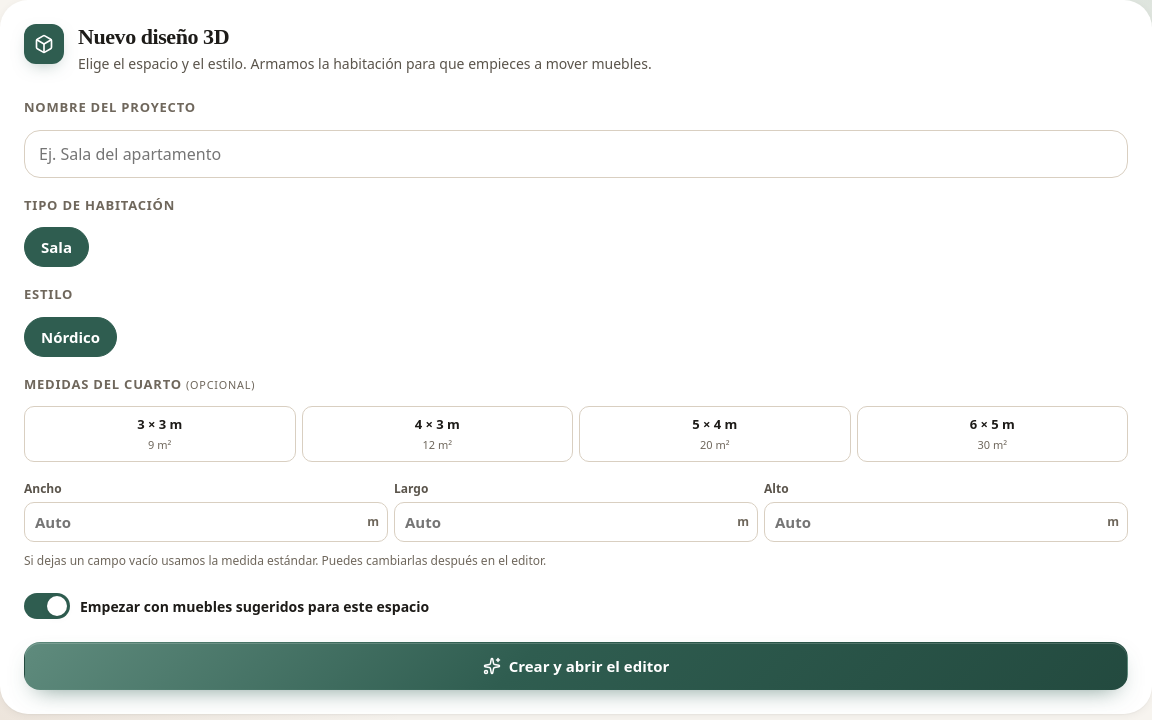
Test: NewProjectForm › brings the name field back into view when it is missing
Step 1. Click the button "Crear y abrir el editor" → [576, 666], box x1=24 y1=642 x2=1128 y2=690
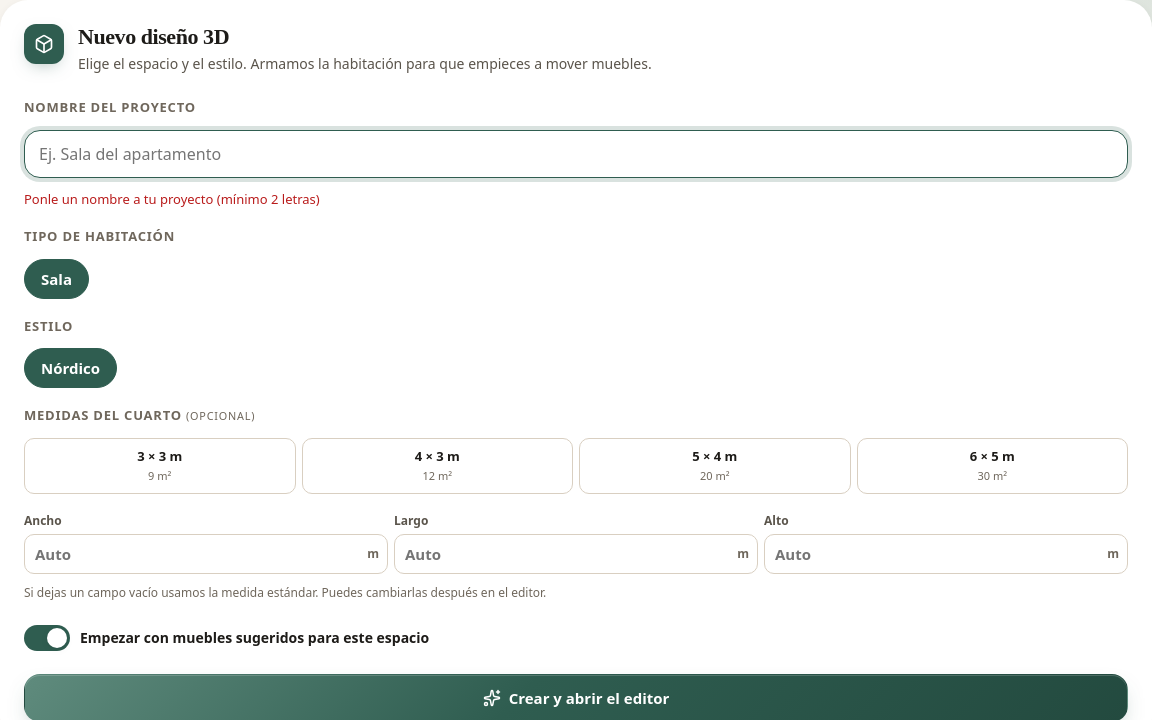
Check: the message reads "Ponle un nombre a tu proyecto (mínimo 2 letras)", box x1=24 y1=190 x2=320 y2=208
